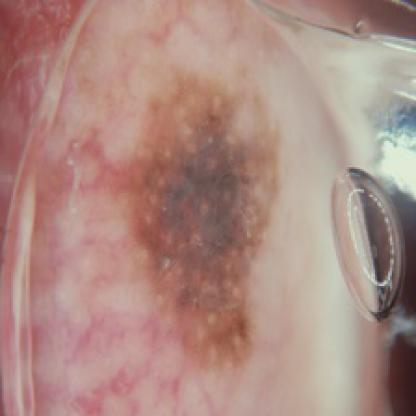malignant: (13, 11, 310, 351)
